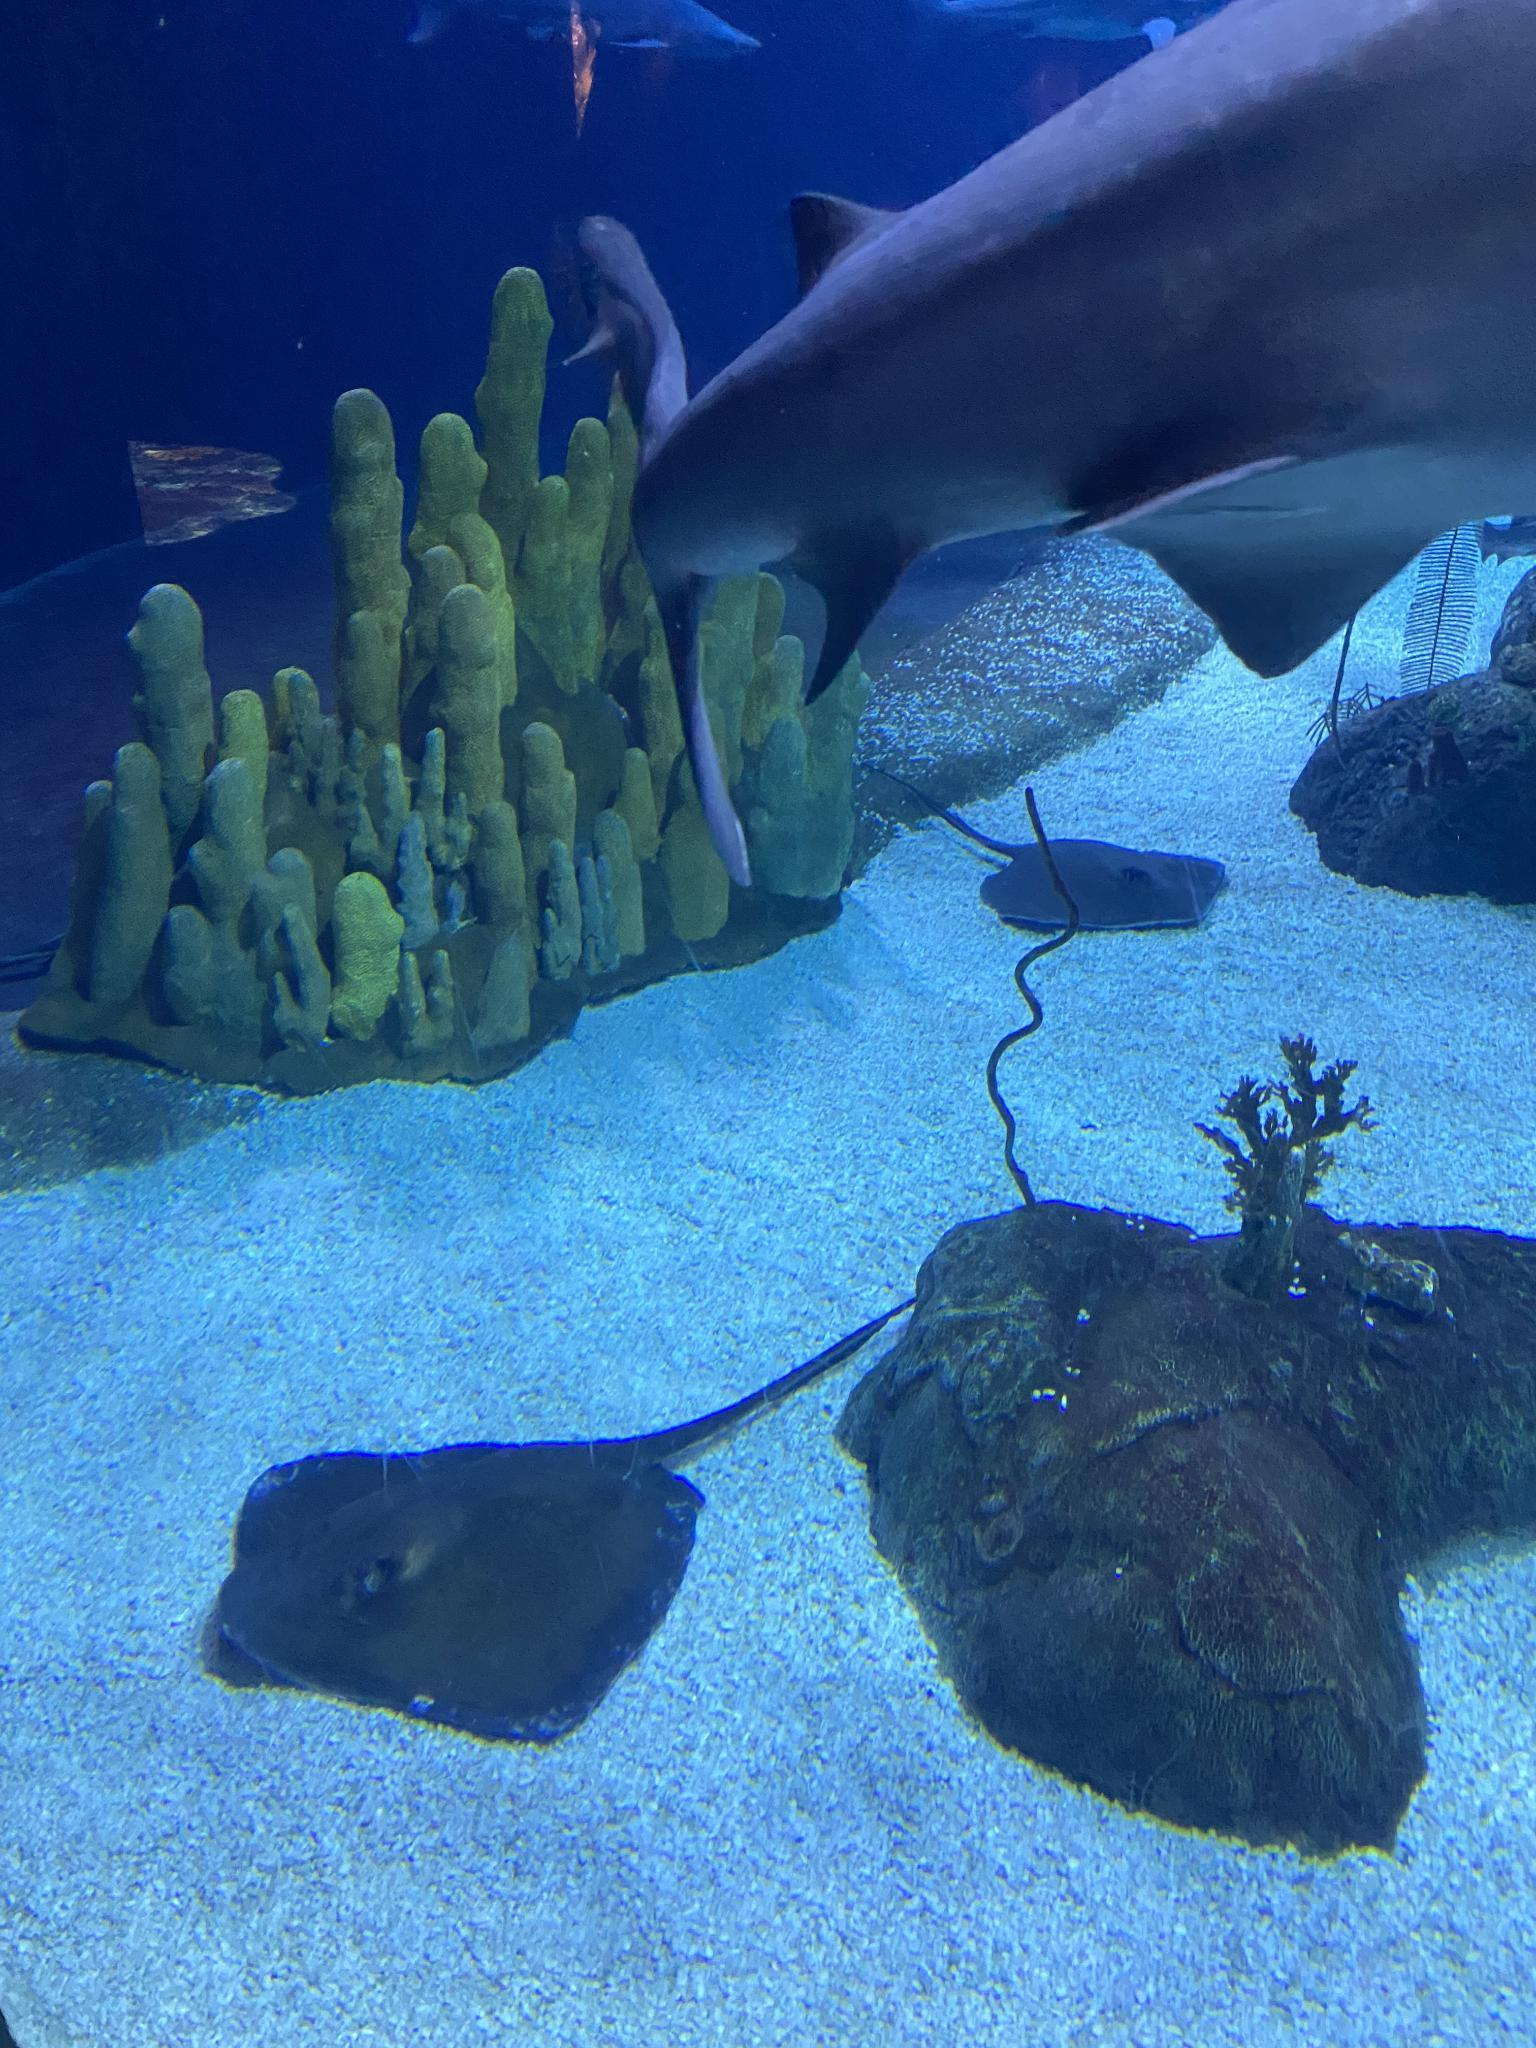shark: (600, 0, 1536, 900), (402, 0, 787, 69)
stingray: (194, 1408, 702, 1766), (975, 834, 1255, 953)
